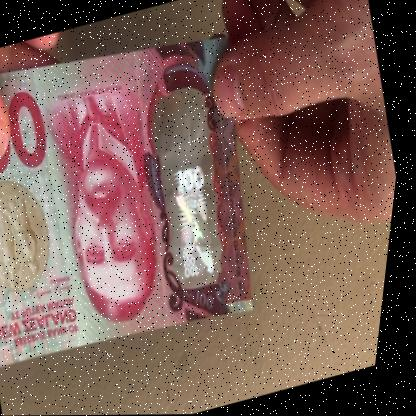100F: (146, 112, 244, 288)
